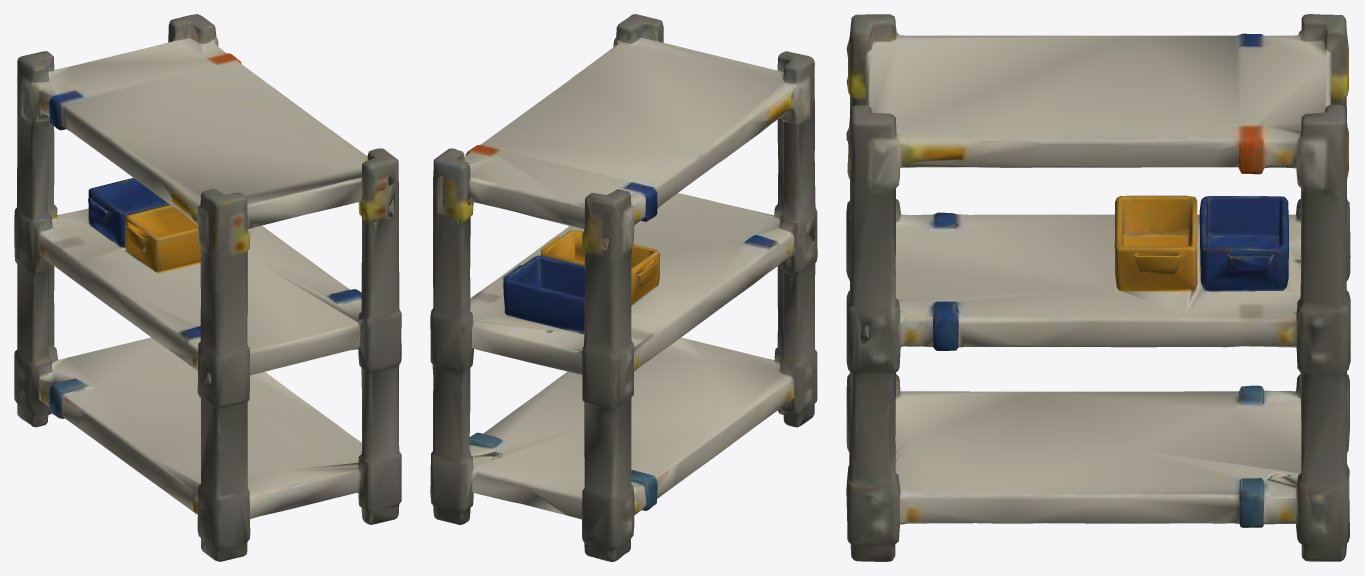
The model's file is shelf.glb.
The picture shows the model from 3 angles, left to right: view 1: azimuth 30°, elevation 25°; view 2: azimuth 150°, elevation 25°; view 3: azimuth 270°, elevation 25°; orthographic projection. The views are drawn at different scales.
Parts seen in each view (by area): view 1: geometry_0; view 2: geometry_0; view 3: geometry_0.
Boxes of the visible parts, left/top/right/bottom form: geometry_0: left=14, top=14, right=401, bottom=561; geometry_0: left=430, top=14, right=817, bottom=561; geometry_0: left=846, top=14, right=1350, bottom=561.
Bounding box in the file's own units: 0.5437 × 0.9705 × 1.
1 material, 1 textured.
